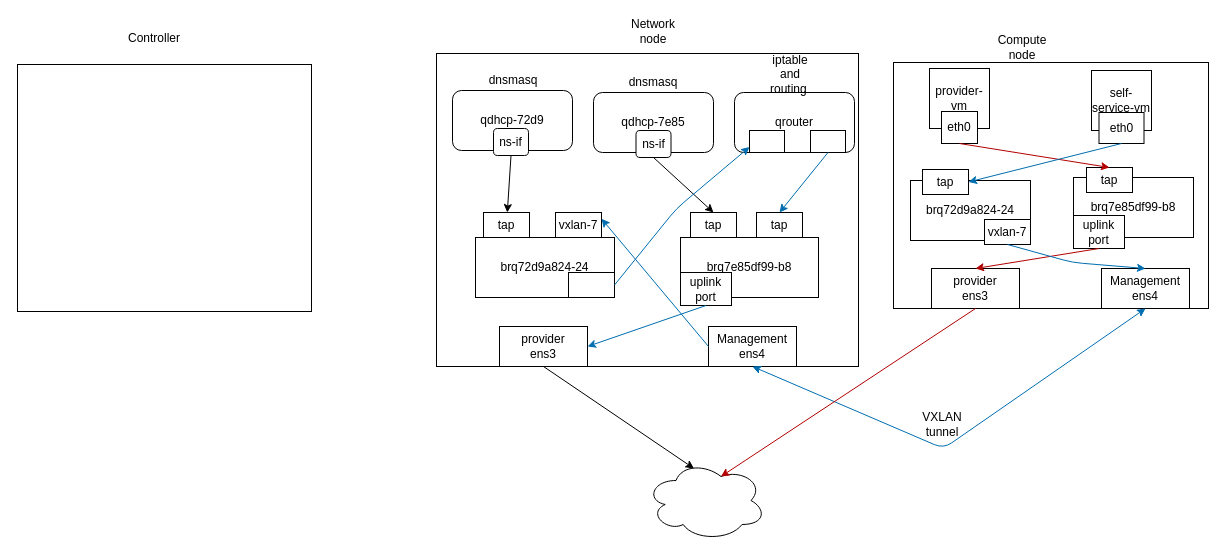
Image size: 1226x558. Some labels were removed from this diagram. Each missing label, with the box of its shape:
internet: (645, 460, 766, 540)
qg: (810, 130, 846, 152)
qr: (748, 130, 784, 152)
tap-uplinkport: (568, 272, 614, 298)
